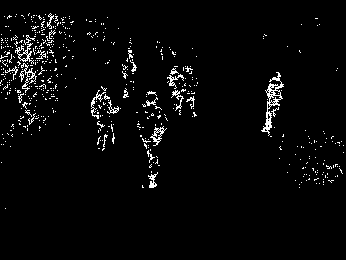person: (135, 89, 168, 189), (89, 86, 122, 151), (260, 70, 284, 137), (179, 62, 199, 119), (119, 49, 138, 98), (167, 65, 185, 116)
